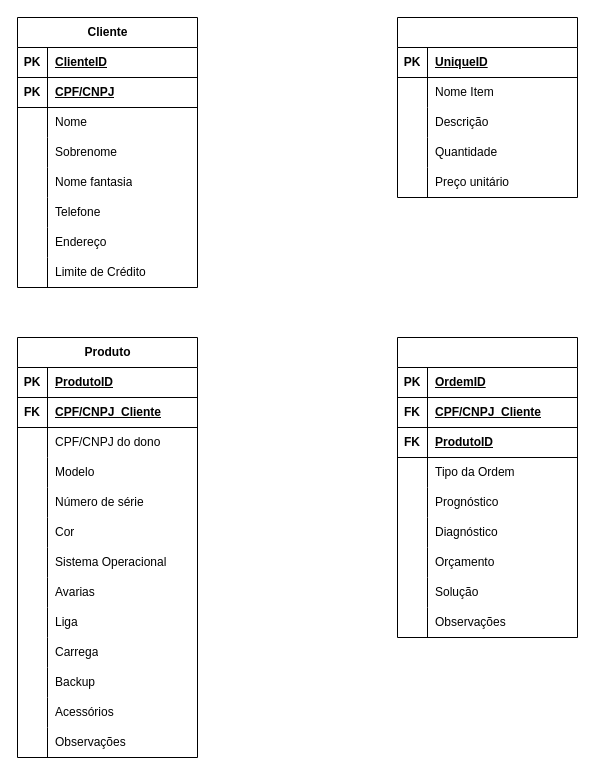
Some shapes in this 595 by 775 pixel diagram are drawn without their labels. Here are the shapes that lost their labels. From the top down, the box of each, then its label:
(396, 16, 578, 198): Estoque
(396, 336, 578, 638): Ordem de Serviço
